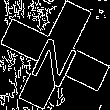N_NE: (26, 24, 84, 86)
